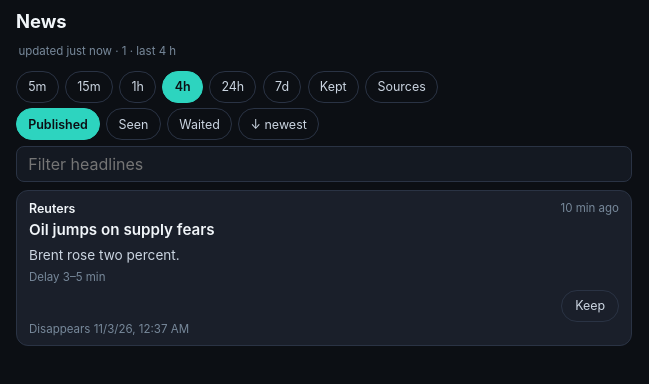
Test: NewsScreen › says the feed carried only a lead when there is no body
This screenshot has width=649, height=384.
Click the button "Oil jumps on supply fears". click: (52, 208)
box: [29, 201, 619, 284]
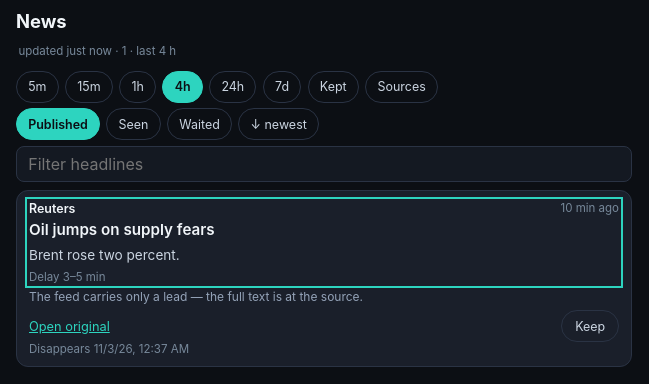
Expected: the text "The feed carries only a lead" is shown, [29, 289, 363, 304]
